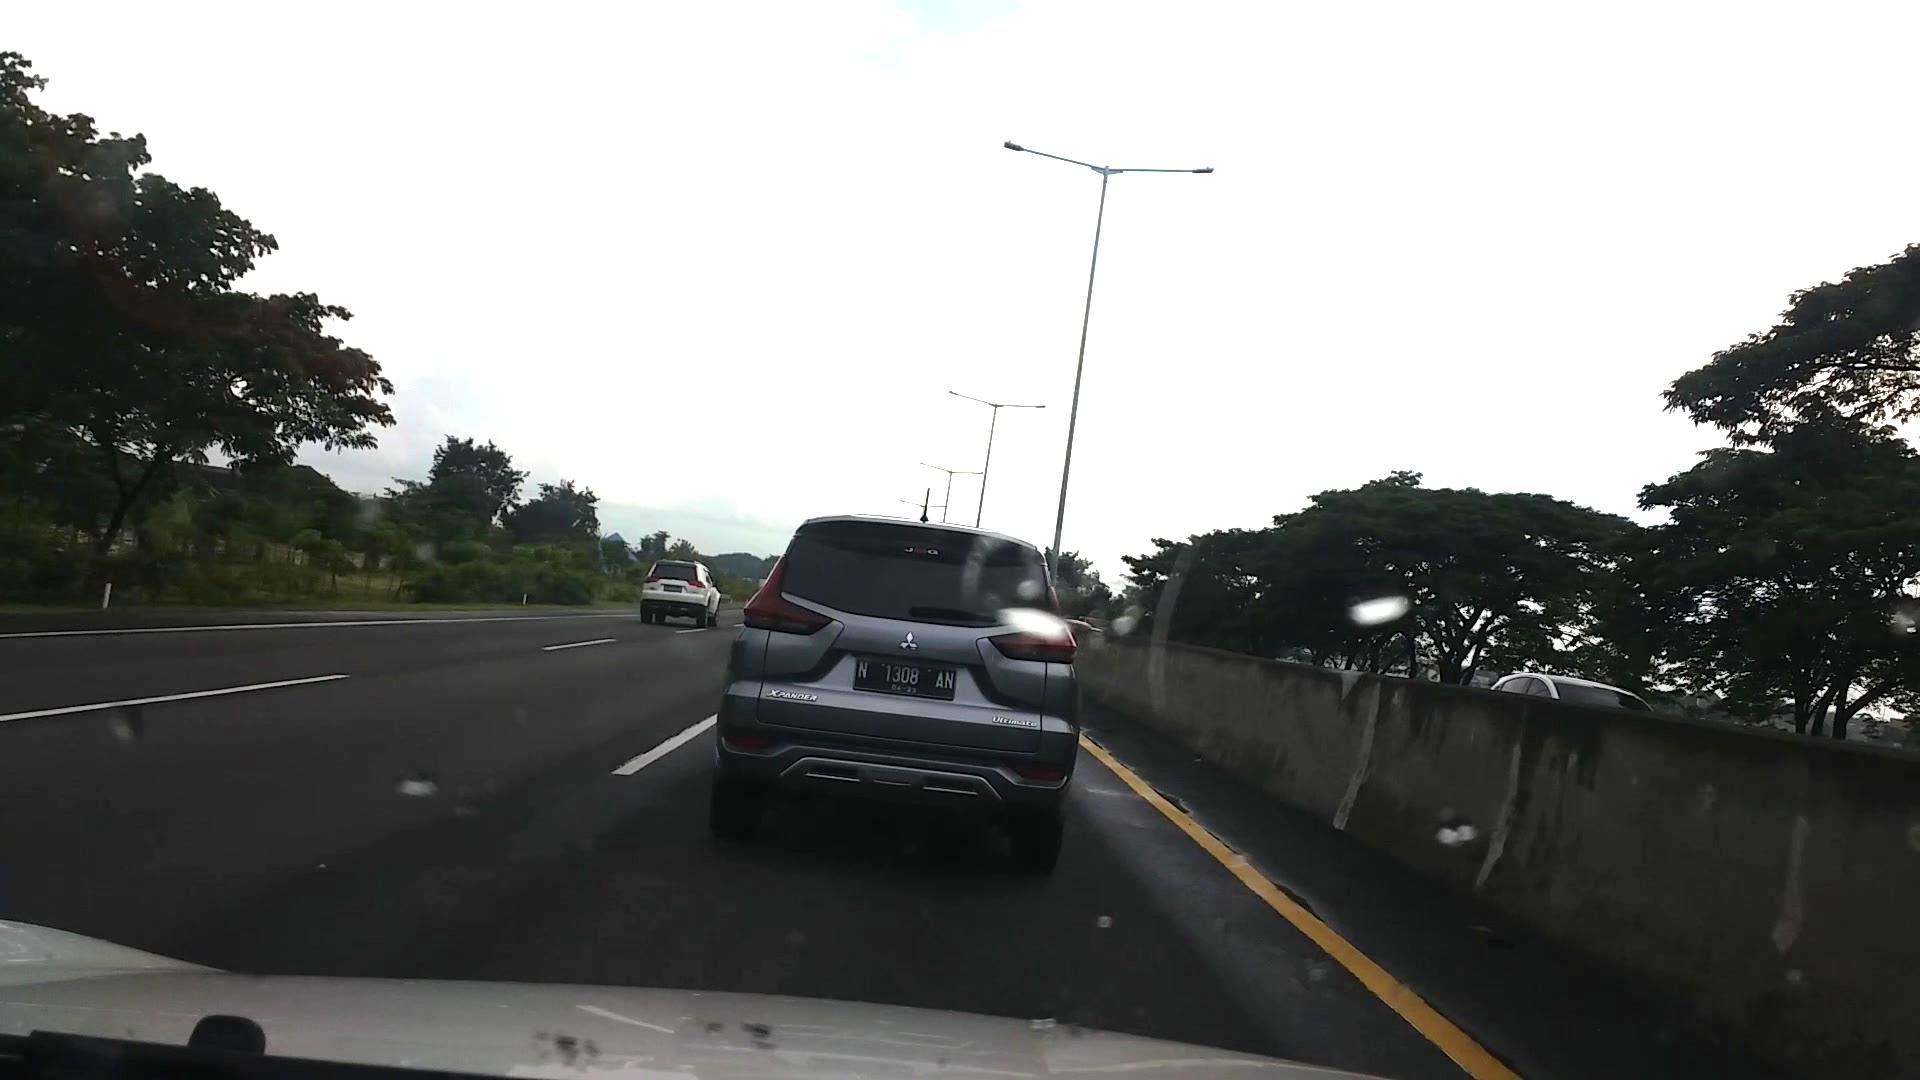plate_positive: (853, 658, 955, 698)
